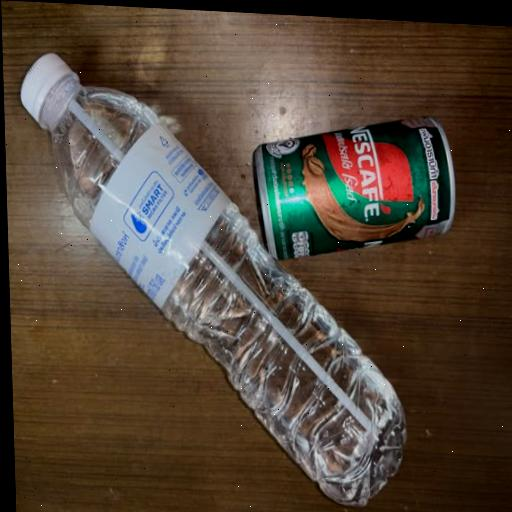bottle: (2, 2, 421, 512)
canned: (248, 93, 465, 279)
